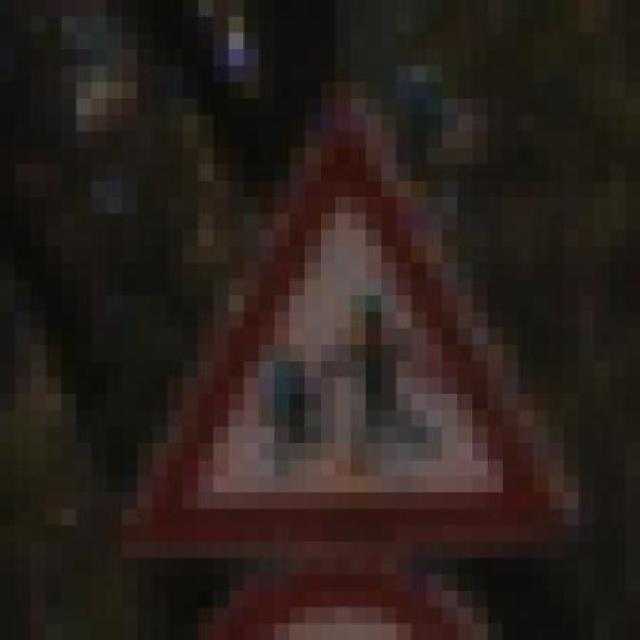Beware of children: (76, 81, 579, 542)
